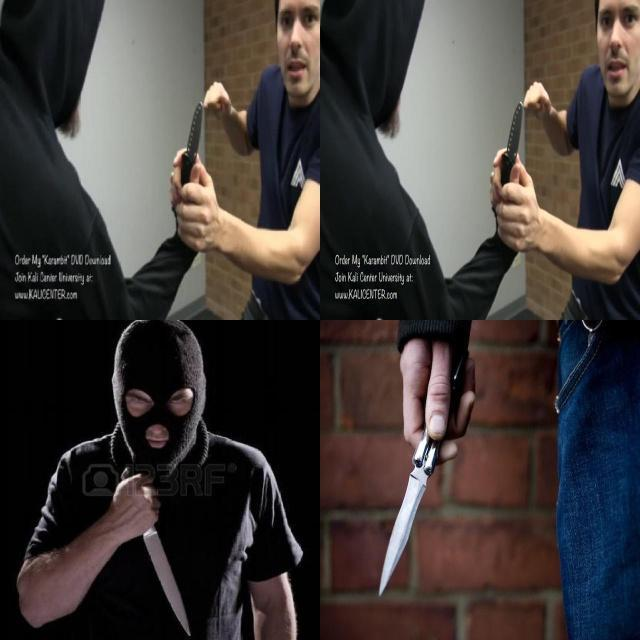-: (373, 401, 457, 606), (116, 479, 195, 638), (167, 95, 205, 206), (486, 95, 524, 205)
